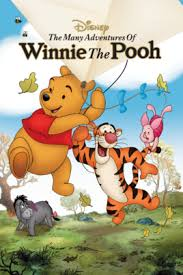Winnie: (31, 64, 92, 146)
